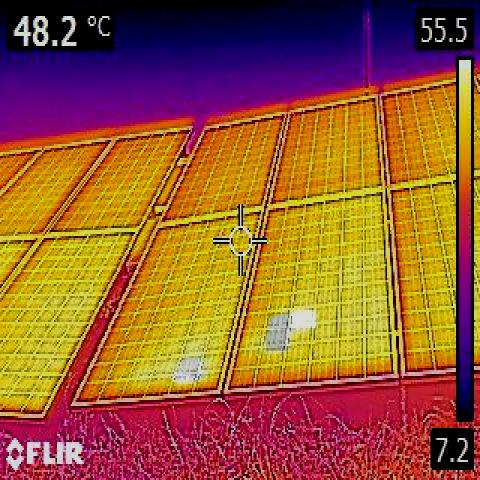fault: (292, 310, 316, 328), (266, 330, 286, 351), (267, 313, 289, 329), (182, 358, 198, 375)
